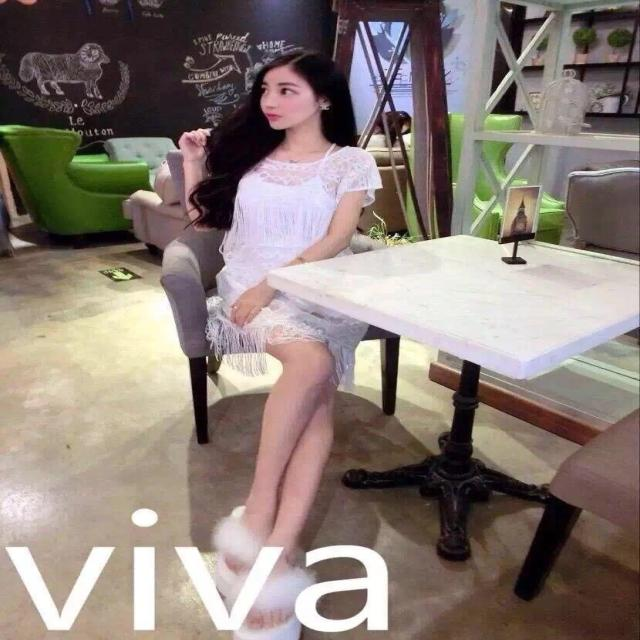short sleeve dress: (212, 146, 379, 363)
